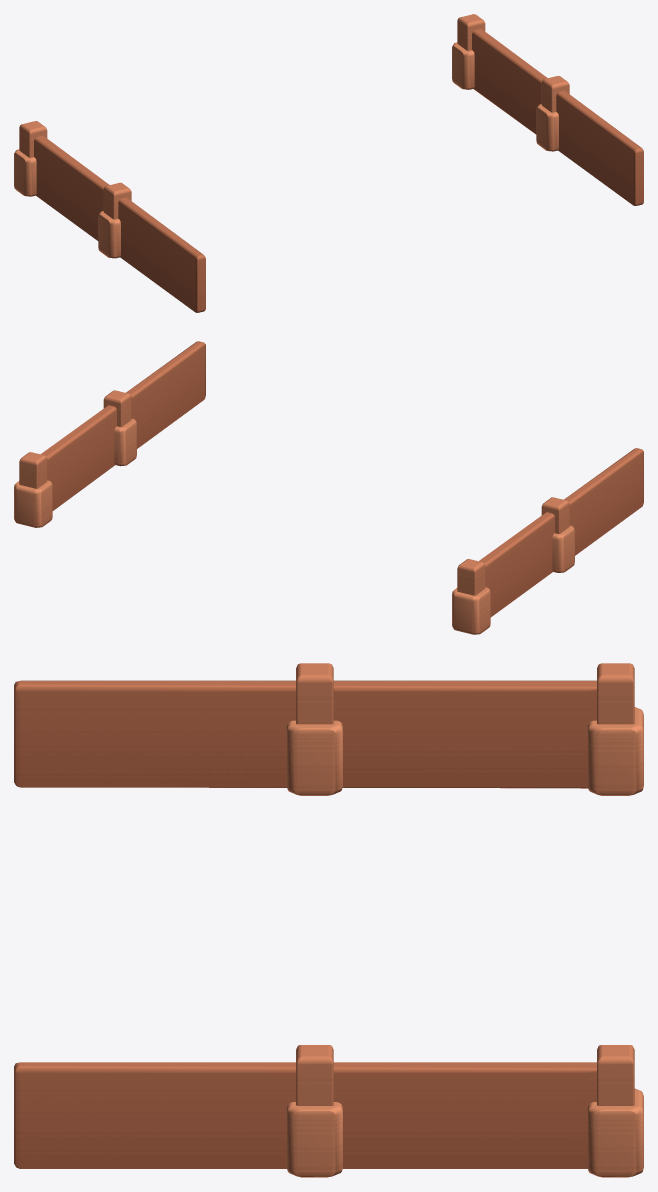
The model's file is fence-low.glb.
3 renders of one model, top to bottom at view 1: azimuth 30°, elevation 25°; view 2: azimuth 150°, elevation 25°; view 3: azimuth 270°, elevation 25°, orthographic. The views are drawn at different scales.
Parts seen in each view (by area): view 1: fence-low; view 2: fence-low; view 3: fence-low.
Part boxes in pixels (left/top/right/bottom): fence-low: left=14, top=14, right=643, bottom=312; fence-low: left=14, top=341, right=643, bottom=634; fence-low: left=14, top=663, right=643, bottom=1177.
Size of the model in its own units: 1.28 by 0.17 by 0.8375.
1 material, 1 textured.
